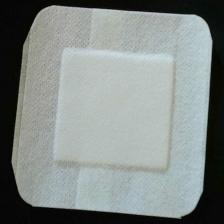Dressing: (12, 4, 219, 221)
